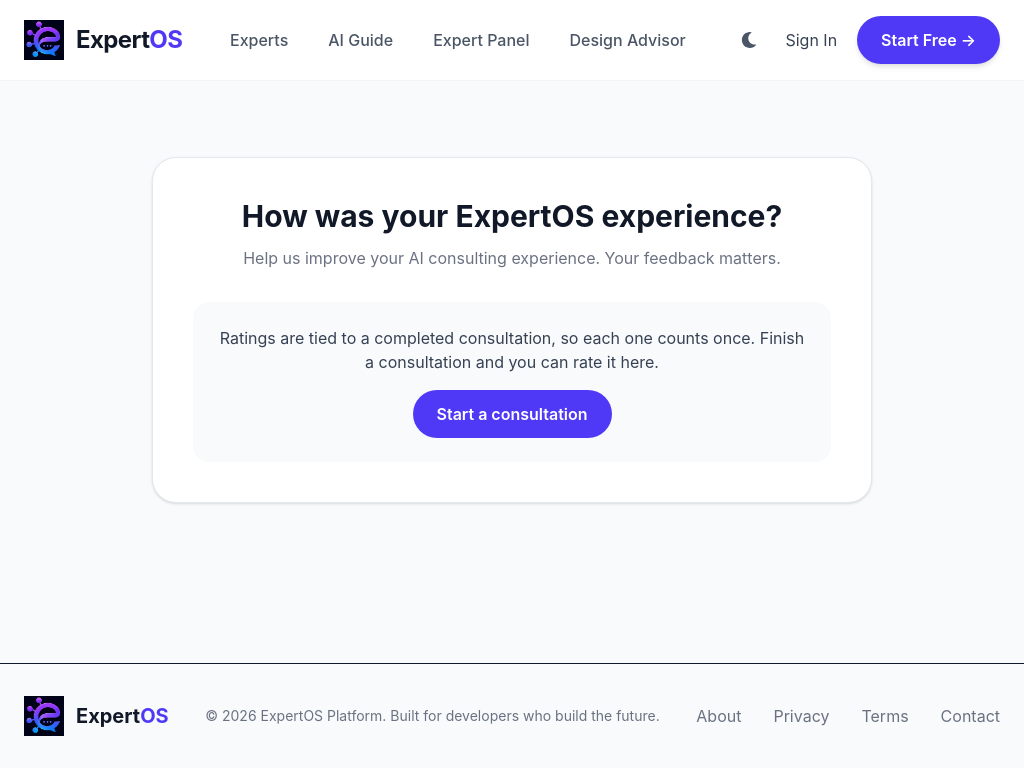
Test: Routing and navigation › footer link Terms opens its page
(page scrolled)
Click the link "Terms" at [885, 716], box [862, 704, 909, 728]
(page scrolled)
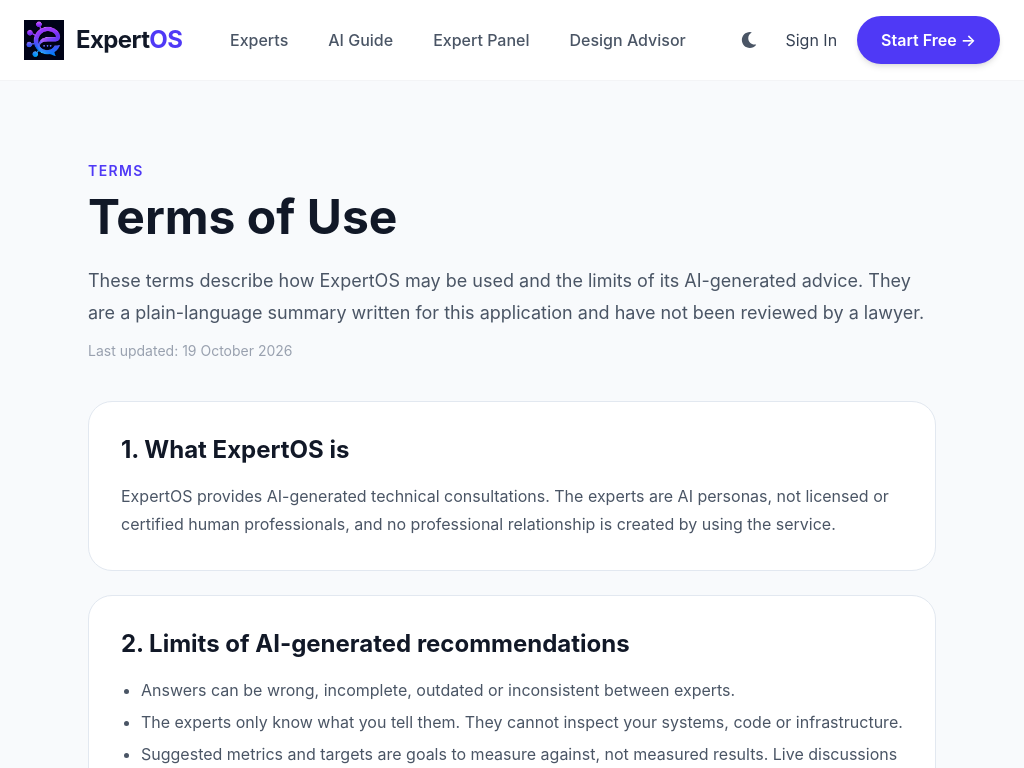
Expected: the heading "Terms of Use" is shown, [88, 187, 397, 246]
